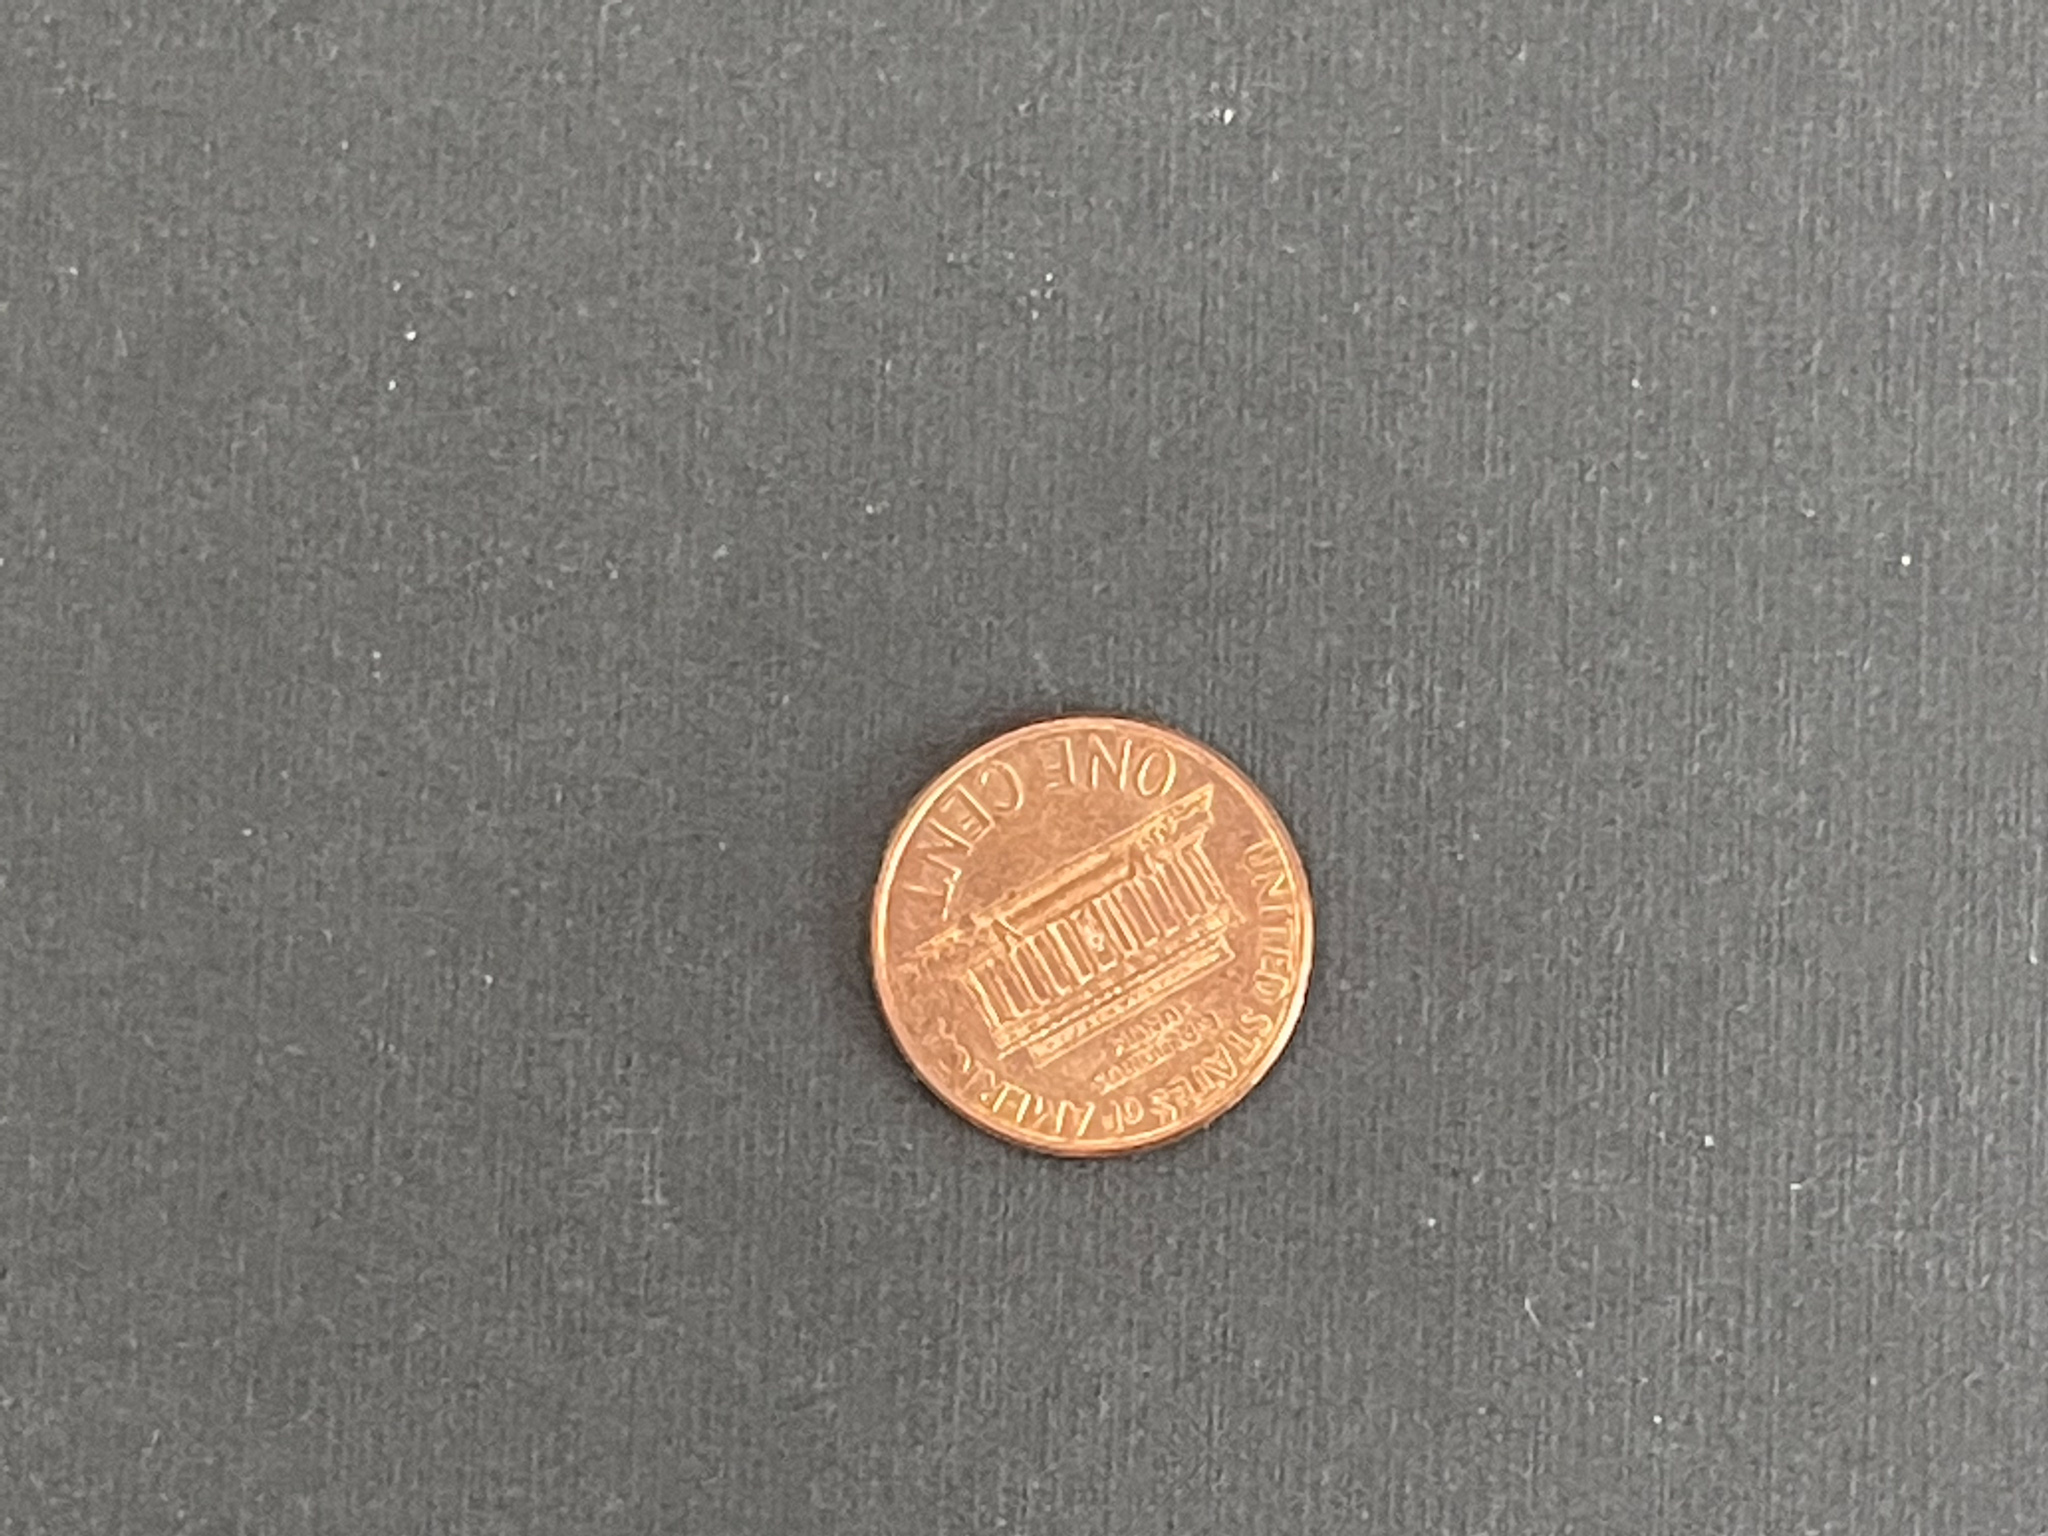penny: (861, 712, 1317, 1165)
